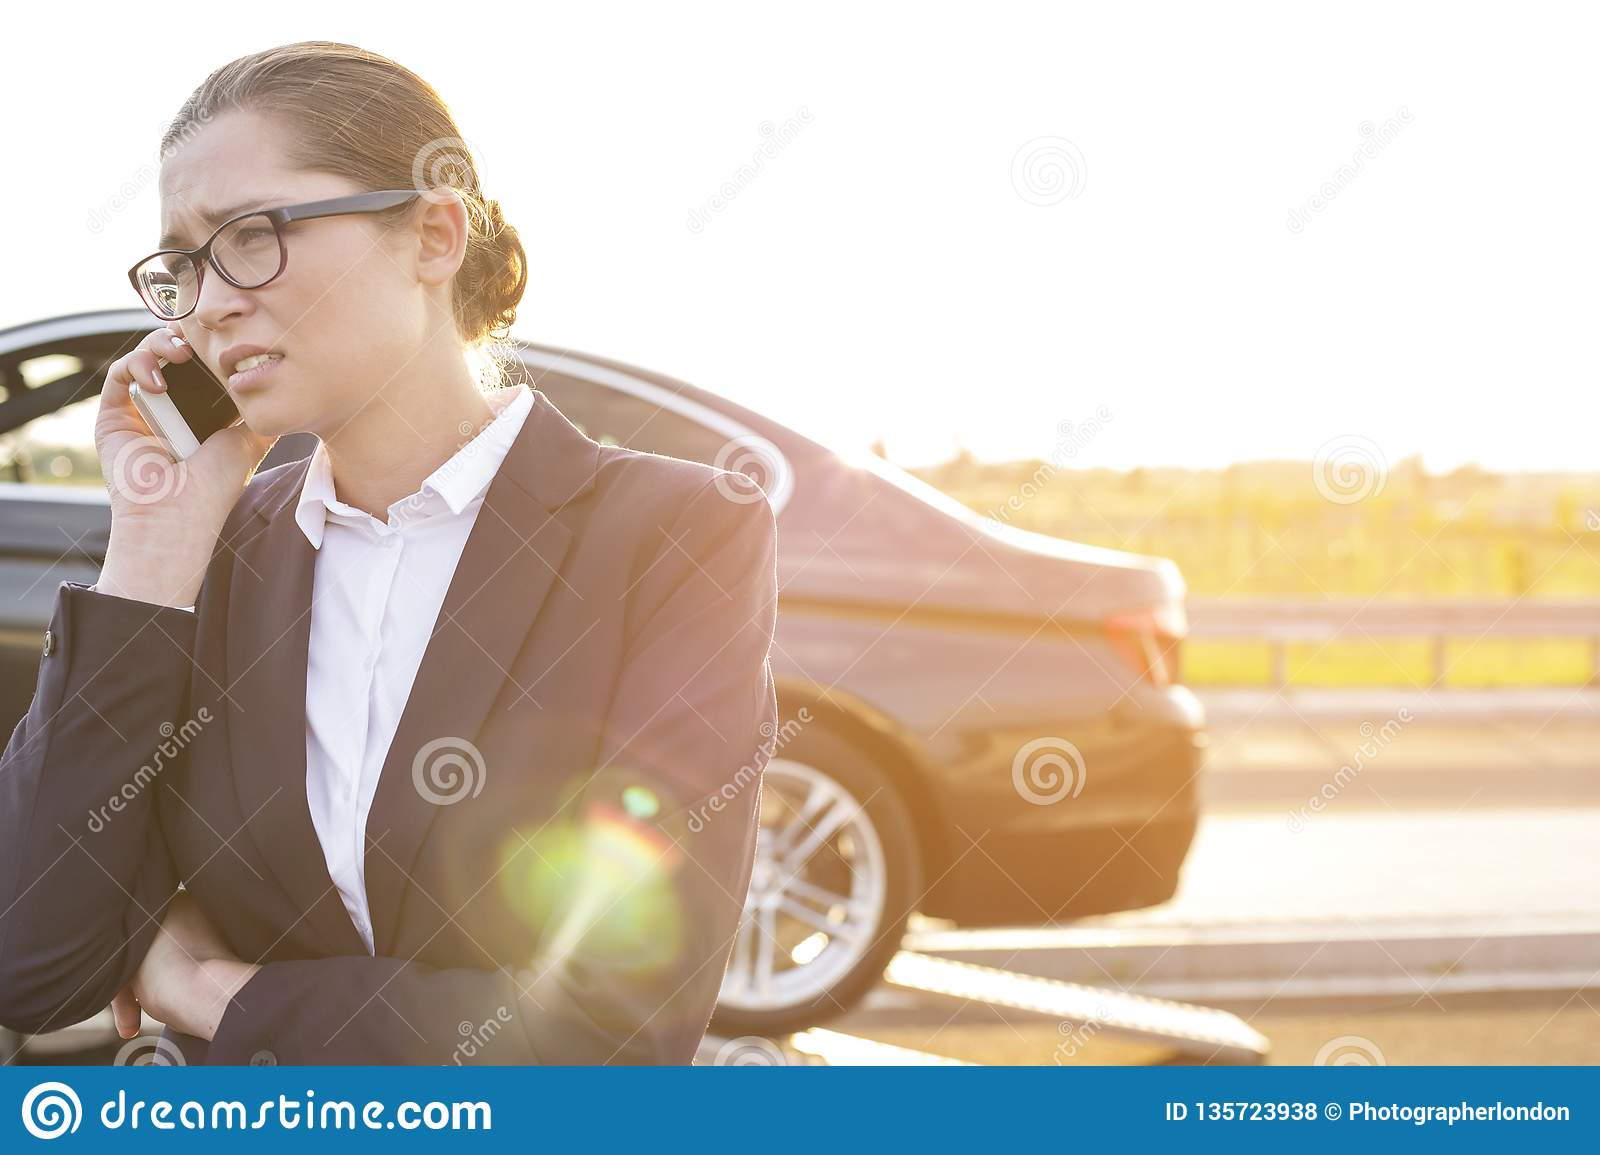phone: (127, 339, 240, 476)
talk: (94, 178, 325, 581)
